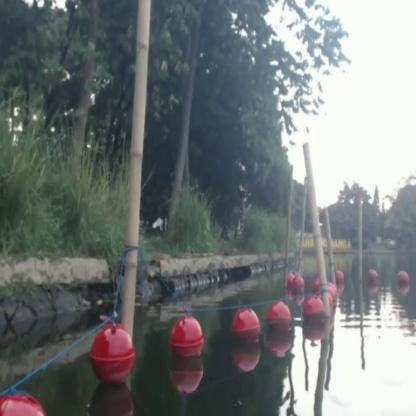red_buoy: (95, 326, 131, 384), (170, 316, 203, 366), (230, 313, 260, 353), (266, 304, 292, 341), (304, 300, 326, 330), (328, 286, 338, 314), (396, 272, 409, 288), (292, 274, 303, 292), (368, 268, 376, 288), (336, 268, 344, 284)
